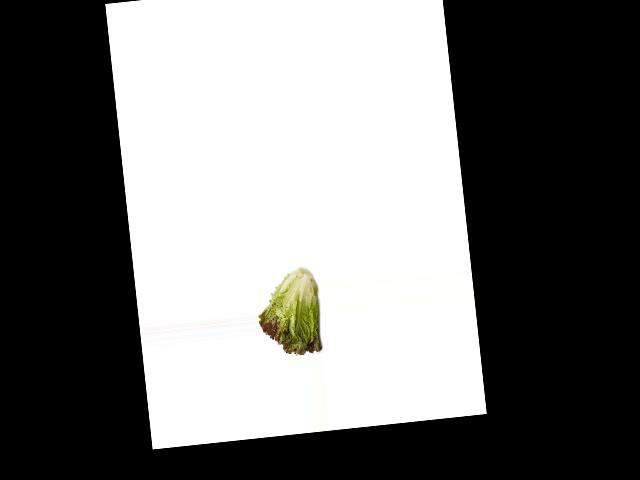lettuce: (255, 267, 323, 360)
